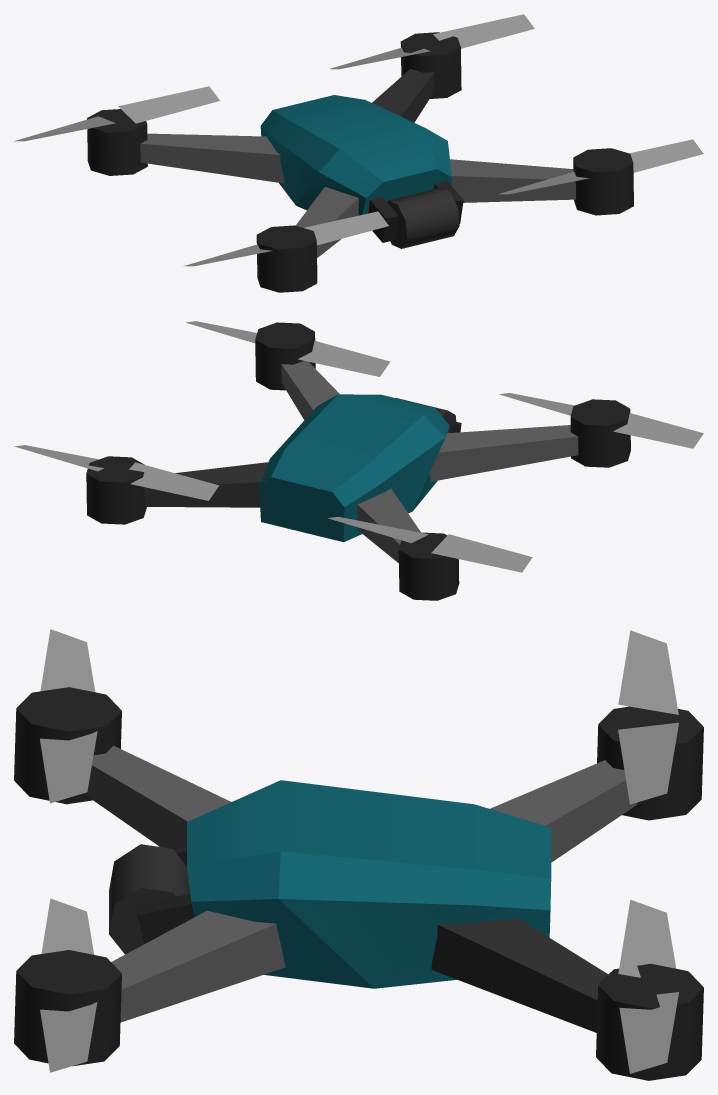
The model's file is copter_01.fbx.
3 renders of one model, top to bottom at view 1: azimuth 30°, elevation 25°; view 2: azimuth 150°, elevation 25°; view 3: azimuth 270°, elevation 25°, orthographic. The views are drawn at different scales.
Parts seen in each view (by area): view 1: copter_01; view 2: copter_01; view 3: copter_01.
Boxes of the visible parts, bbox=[...] form: copter_01: bbox=[14, 14, 703, 292]; copter_01: bbox=[14, 321, 703, 600]; copter_01: bbox=[14, 629, 703, 1080].
Bounding box in the file's own units: 111 × 15.26 × 75.89.
